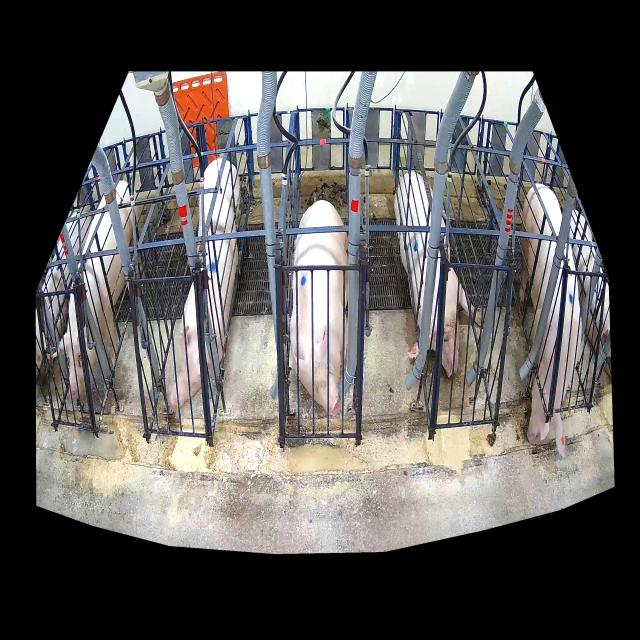pig: (169, 158, 240, 411), (395, 172, 482, 378), (519, 184, 582, 456), (58, 181, 134, 401), (290, 200, 348, 415)
